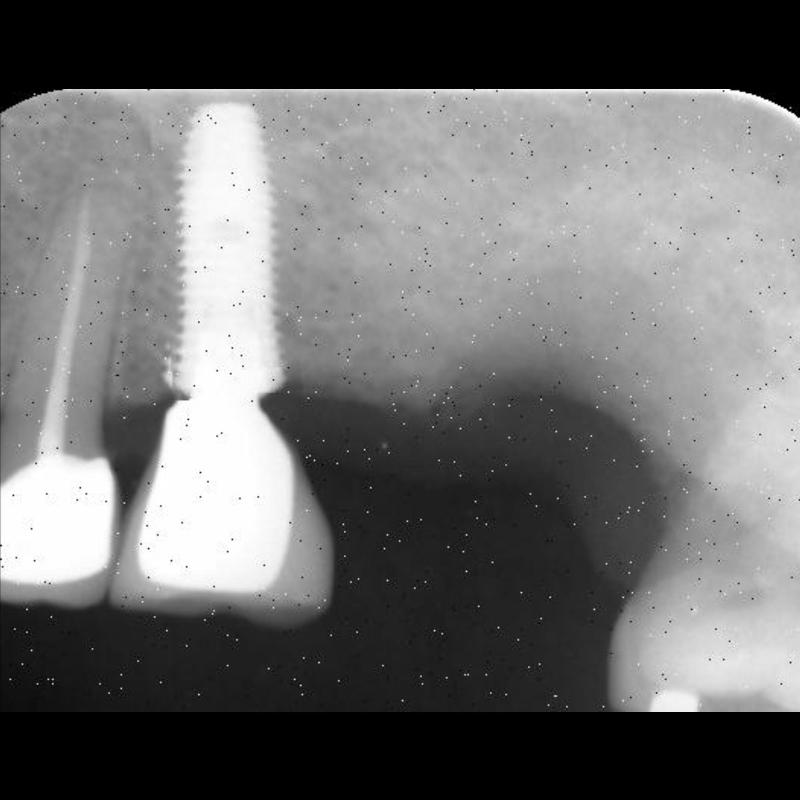Dentium: (155, 98, 296, 397)
